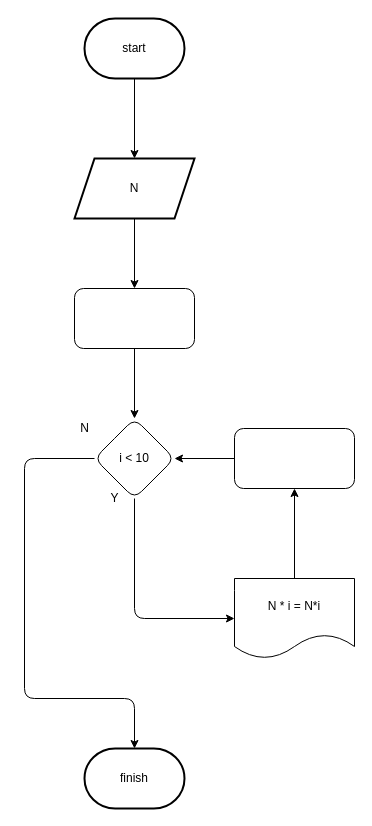
The diagram is 372 pixels wide and 826 high, and some of its shapes have lost their labels. Here are the shapes that lost their labels. From the top down, the centre of each, then its label:
At (134,318): "i = 1".
At (294,458): "i += 1".
